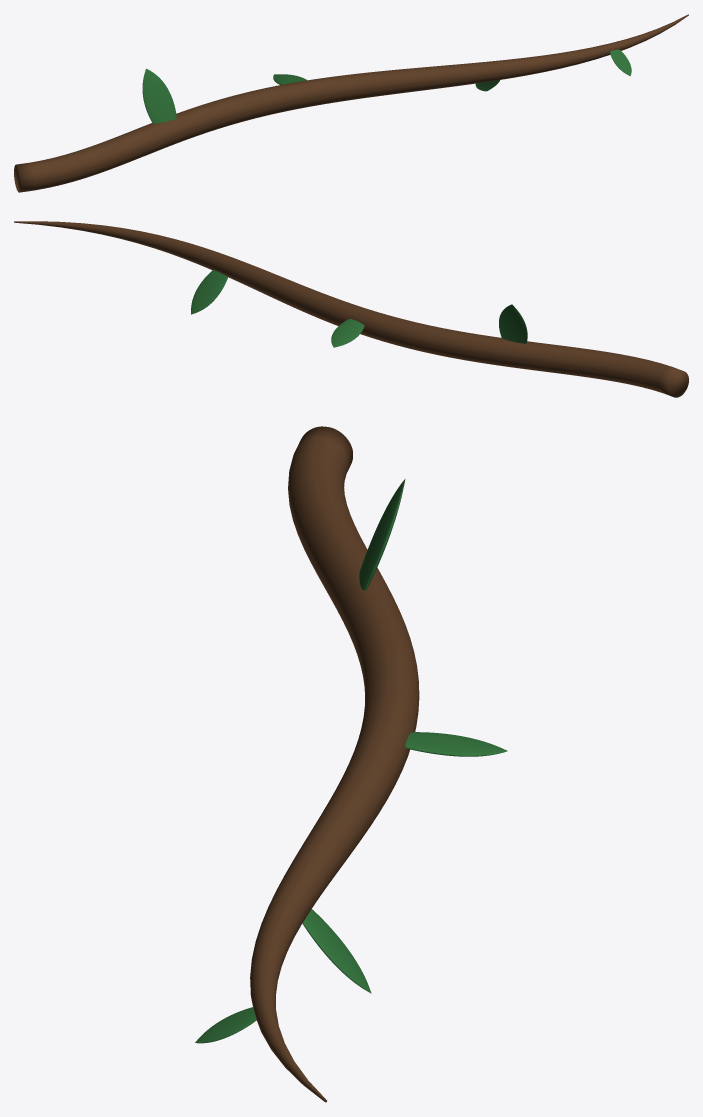
File: Stick.fbx
3 views of the same model, one above another, from view 1: azimuth 30°, elevation 25°; view 2: azimuth 150°, elevation 25°; view 3: azimuth 270°, elevation 25° (orthographic). The views are drawn at different scales.
Parts seen in each view (by area): view 1: Stick, leaf bottom, leaf top; view 2: Stick, leaf middle.001, leaf bottom, leaf middle; view 3: Stick, leaf middle, leaf middle.001, leaf bottom, leaf top.
Boxes of the visible parts, bbox=[...] form: Stick: bbox=[14, 14, 688, 192]; leaf bottom: bbox=[142, 68, 176, 123]; leaf top: bbox=[610, 49, 631, 76]; Stick: bbox=[14, 221, 688, 397]; leaf middle.001: bbox=[191, 270, 227, 314]; leaf bottom: bbox=[499, 304, 527, 343]; leaf middle: bbox=[331, 319, 364, 347]; Stick: bbox=[250, 426, 419, 1102]; leaf middle: bbox=[405, 732, 507, 756]; leaf middle.001: bbox=[302, 909, 371, 993]; leaf bottom: bbox=[359, 479, 405, 590]; leaf top: bbox=[195, 1007, 256, 1043].
Bounding box in the file's own units: 460 × 63.62 × 93.21.
